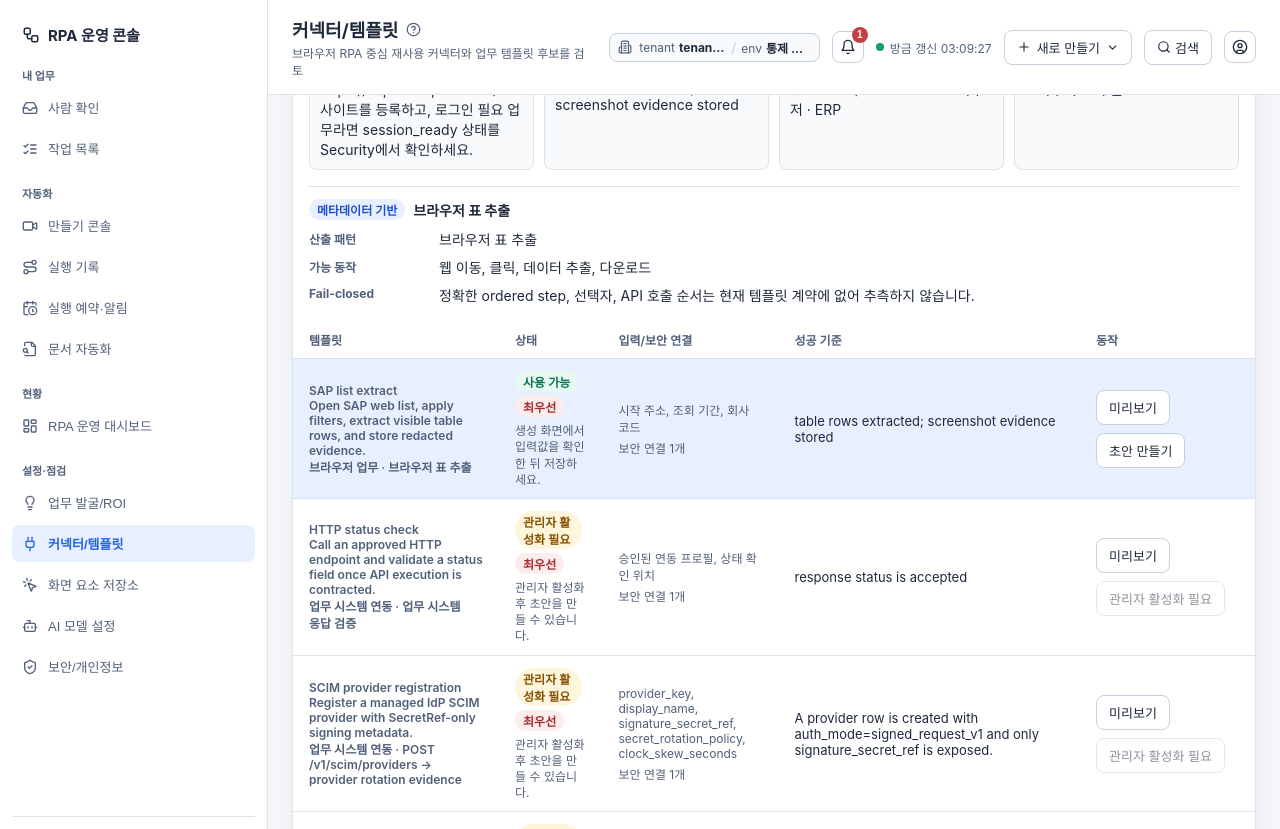
Test: connector catalog view › opens a template as a scenario generator draft prefill
(page scrolled)
Click the button "초안 만들기".
click(1141, 450)  # box x1=1096 y1=432 x2=1185 y2=468
(page scrolled)
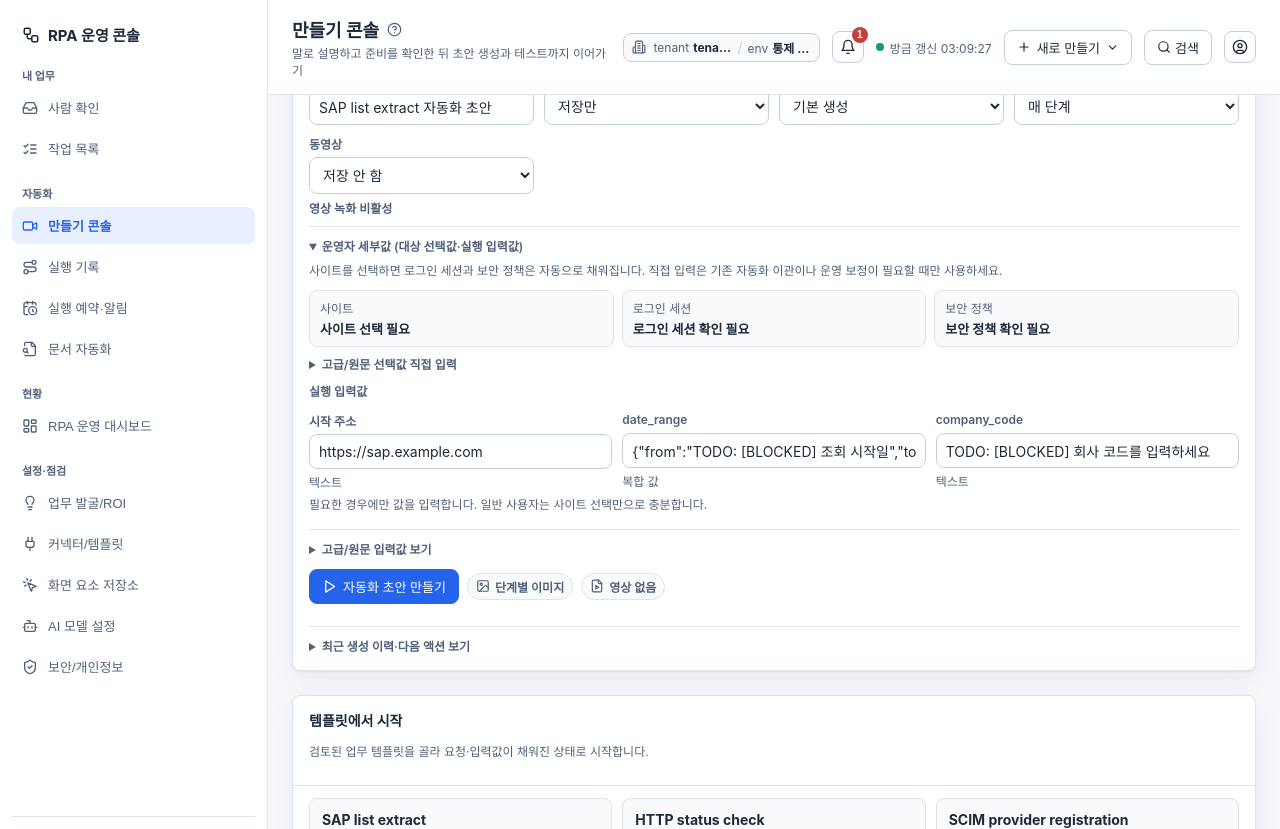
Expected: the field showing "SAP list extract 자동화 초안" is shown, x1=309 y1=89 x2=534 y2=125
Expected: the field labelled "company_code" holds "TODO: [BLOCKED] 회사 코드를 입력하세요", x1=936 y1=433 x2=1239 y2=468
